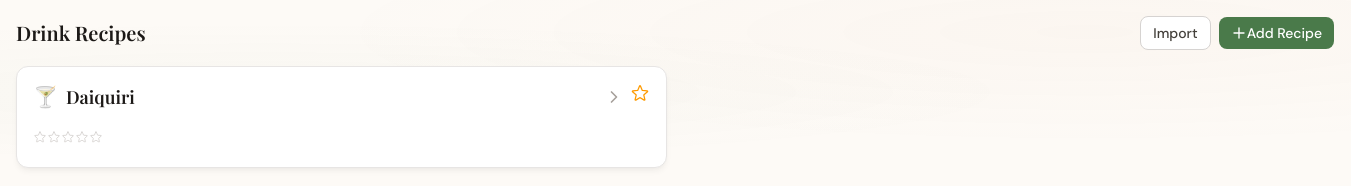
Test case: DrinkRecipeManager › toggling favorite POSTs and invalidates the list (contract + behavior)
Expected: the heading "Daiquiri" is shown, left=66, top=85, right=135, bottom=109
Click the button named "Favorite" at (640, 93), box left=630, top=83, right=650, bottom=103
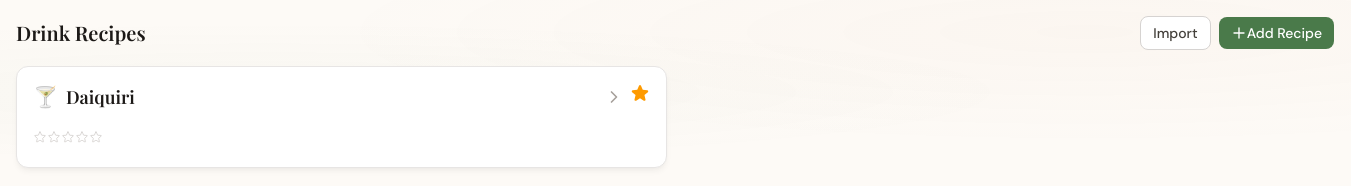
Expected: the button named "Unfavorite" is shown, left=630, top=83, right=650, bottom=103
